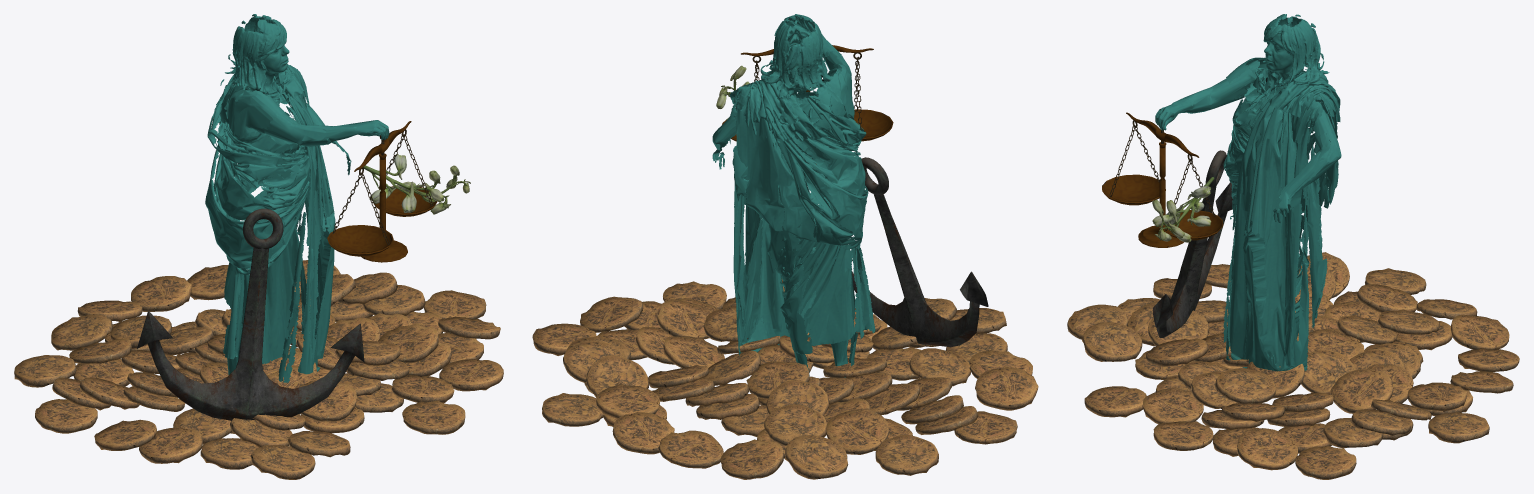
File: statueArtistaEsperanca.glb
3 views of the same model, side by side, from view 1: azimuth 30°, elevation 25°; view 2: azimuth 150°, elevation 25°; view 3: azimuth 270°, elevation 25° (orthographic). The views are drawn at different scales.
Parts seen in each view (by area): view 1: Coins, braco_02.001, Plane, Object_2, LeftScale_3, Scale_9, RightScale_7; view 2: Coins, braco_02.001, Plane, LeftScale_3; view 3: Coins, braco_02.001, Plane, Object_2, LeftScale_3, Scale_9, RightScale_7, Beam_0.
Part boxes in pixels (left/top/right/bottom): Coins: left=14, top=260, right=503, bottom=479; braco_02.001: left=205, top=14, right=389, bottom=382; Plane: left=137, top=208, right=364, bottom=420; Object_2: left=363, top=154, right=470, bottom=214; LeftScale_3: left=327, top=225, right=393, bottom=256; Scale_9: left=361, top=135, right=407, bottom=262; RightScale_7: left=373, top=186, right=437, bottom=216; Coins: left=532, top=278, right=1038, bottom=479; braco_02.001: left=712, top=14, right=875, bottom=377; Plane: left=852, top=157, right=988, bottom=347; LeftScale_3: left=854, top=109, right=893, bottom=141; Coins: left=1067, top=252, right=1519, bottom=479; braco_02.001: left=1155, top=14, right=1341, bottom=371; Plane: left=1153, top=150, right=1232, bottom=337; Object_2: left=1152, top=177, right=1214, bottom=242; LeftScale_3: left=1102, top=174, right=1165, bottom=205; Scale_9: left=1138, top=129, right=1183, bottom=247; RightScale_7: left=1160, top=210, right=1223, bottom=240; Beam_0: left=1126, top=112, right=1199, bottom=157.
Size of the model in its own units: 2.48 by 1.89 by 2.18.
Materials: 5 (5 with a texture image).
